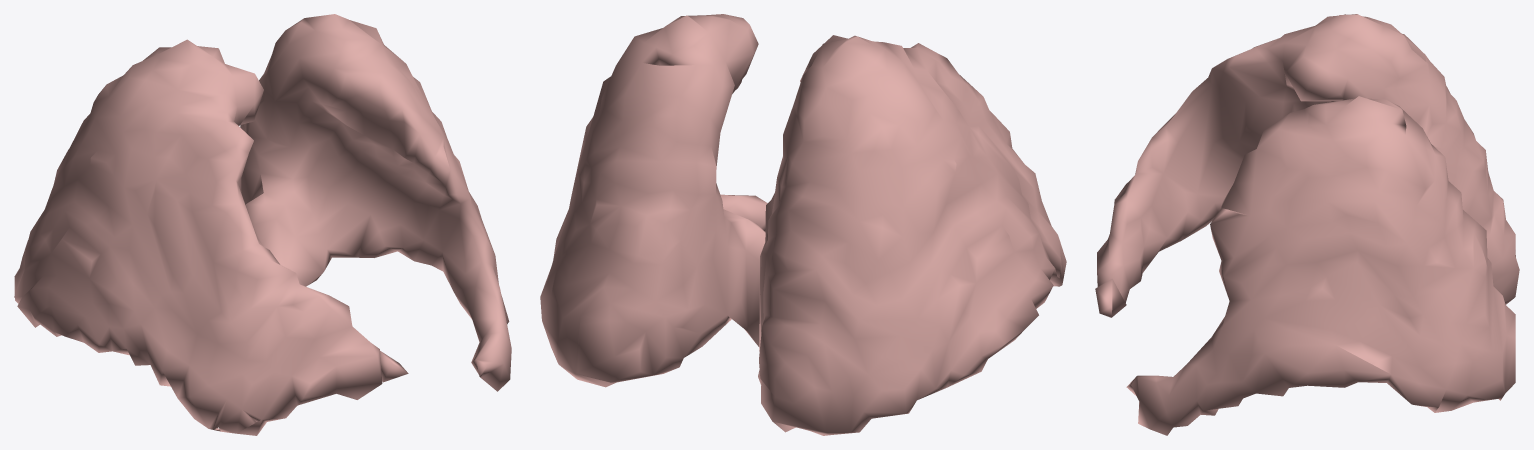
File: fetus.respiratory.LOD3.glb
The picture shows the model from 3 angles, left to right: view 1: azimuth 30°, elevation 25°; view 2: azimuth 150°, elevation 25°; view 3: azimuth 270°, elevation 25°; orthographic projection. The views are drawn at different scales.
Parts seen in each view (by area): view 1: FETUS.RESPIRATORY.LUNG.R, FETUS.RESPIRATORY.LUNG.L; view 2: FETUS.RESPIRATORY.LUNG.R, FETUS.RESPIRATORY.LUNG.L; view 3: FETUS.RESPIRATORY.LUNG.L, FETUS.RESPIRATORY.LUNG.R.
Boxes of the visible parts, x1,y1,x2,y2 form: FETUS.RESPIRATORY.LUNG.R: [14, 39, 382, 435]; FETUS.RESPIRATORY.LUNG.L: [240, 14, 511, 391]; FETUS.RESPIRATORY.LUNG.R: [758, 35, 1066, 435]; FETUS.RESPIRATORY.LUNG.L: [540, 14, 767, 387]; FETUS.RESPIRATORY.LUNG.L: [1095, 96, 1515, 435]; FETUS.RESPIRATORY.LUNG.R: [1097, 14, 1519, 304].
Bounding box in the file's own units: 0.0607 × 0.0453 × 0.0556.
